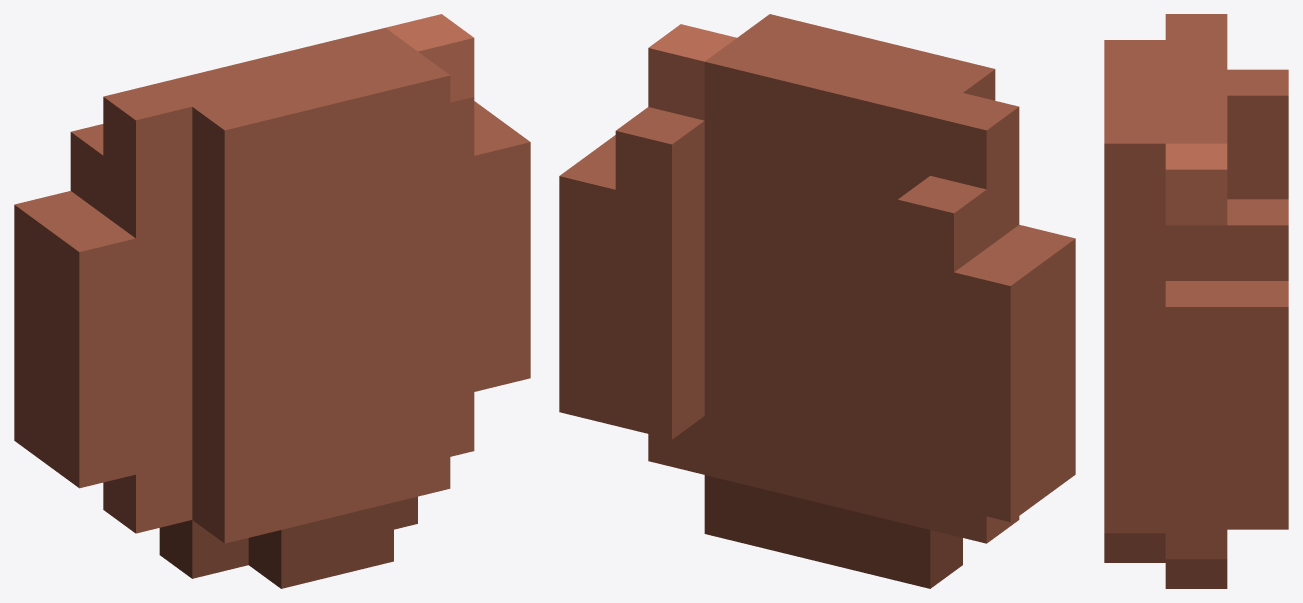
Rendered from mat_dragon_scale_lod1.glb.
The picture shows the model from 3 angles, left to right: view 1: azimuth 30°, elevation 25°; view 2: azimuth 150°, elevation 25°; view 3: azimuth 270°, elevation 25°; orthographic projection. The views are drawn at different scales.
Visible parts, largest first — view 1: mat_dragon_scale_lod1; view 2: mat_dragon_scale_lod1; view 3: mat_dragon_scale_lod1.
Boxes of the visible parts, x1,y1,x2,y2 form: mat_dragon_scale_lod1: [14, 14, 530, 588]; mat_dragon_scale_lod1: [559, 14, 1075, 588]; mat_dragon_scale_lod1: [1104, 14, 1288, 588].
Size of the model in its own units: 0.192 by 0.192 by 0.072.
